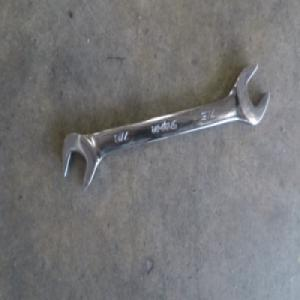Wrench: (66, 65, 268, 193)
